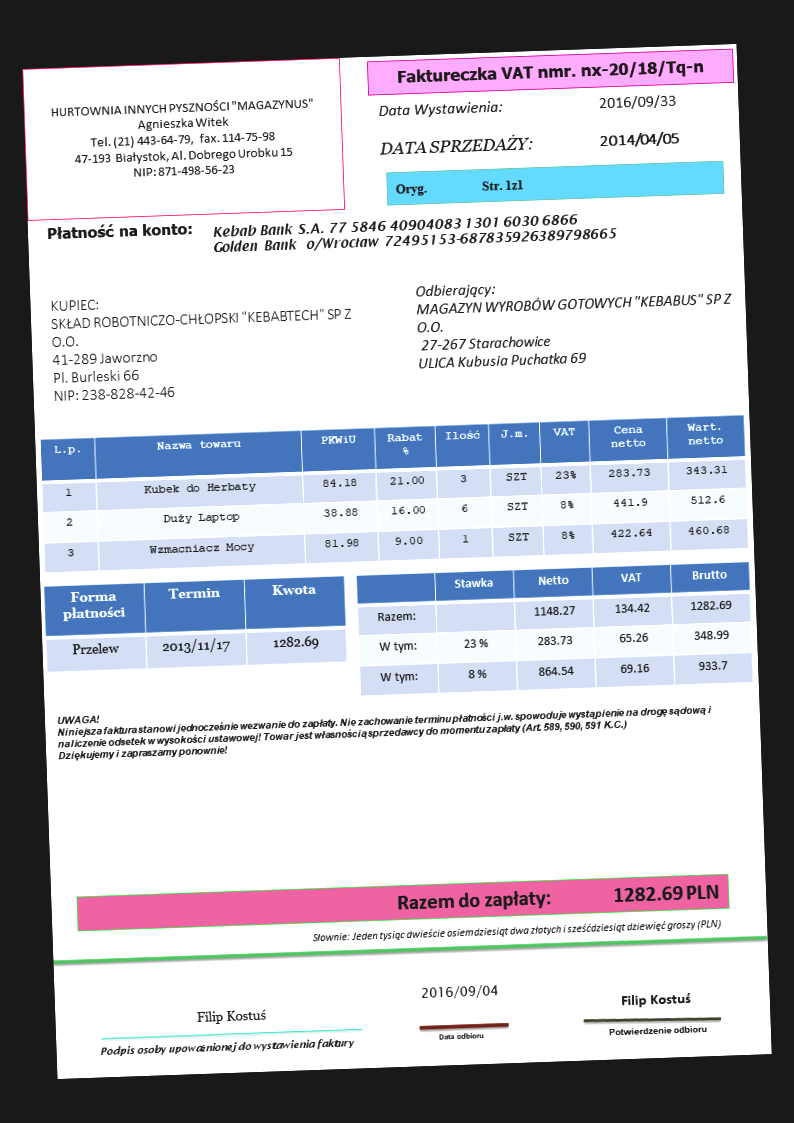Table: (39, 411, 751, 576), (354, 559, 755, 699), (42, 575, 347, 674)
TextBox: (53, 688, 716, 764), (46, 284, 357, 407), (412, 271, 739, 375), (45, 95, 318, 185), (209, 209, 620, 258), (307, 913, 722, 946), (394, 877, 722, 916), (391, 57, 706, 88), (97, 1035, 360, 1061), (376, 130, 534, 160), (40, 218, 194, 245), (390, 173, 526, 200), (373, 94, 504, 121), (595, 126, 682, 152), (418, 977, 502, 1002), (606, 1021, 709, 1039), (616, 987, 697, 1009), (192, 1004, 268, 1027), (595, 92, 678, 112), (432, 1027, 489, 1044)
